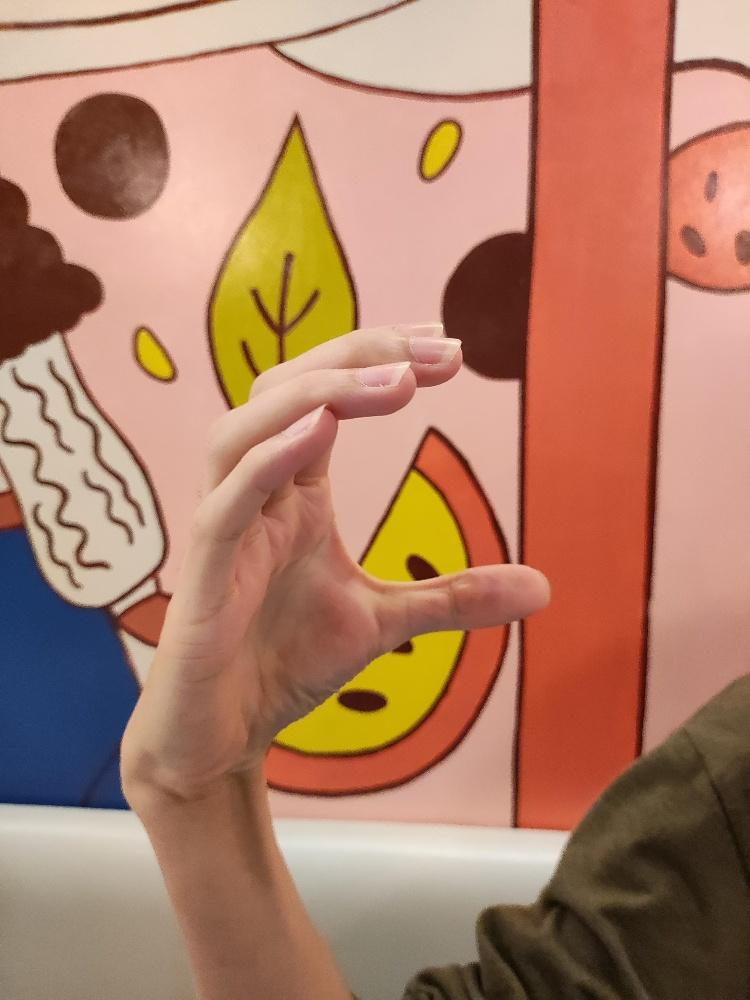c: (116, 316, 554, 800)
